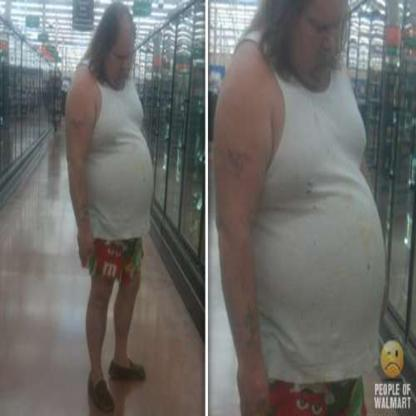face: (298, 4, 352, 86), (106, 26, 137, 87)
